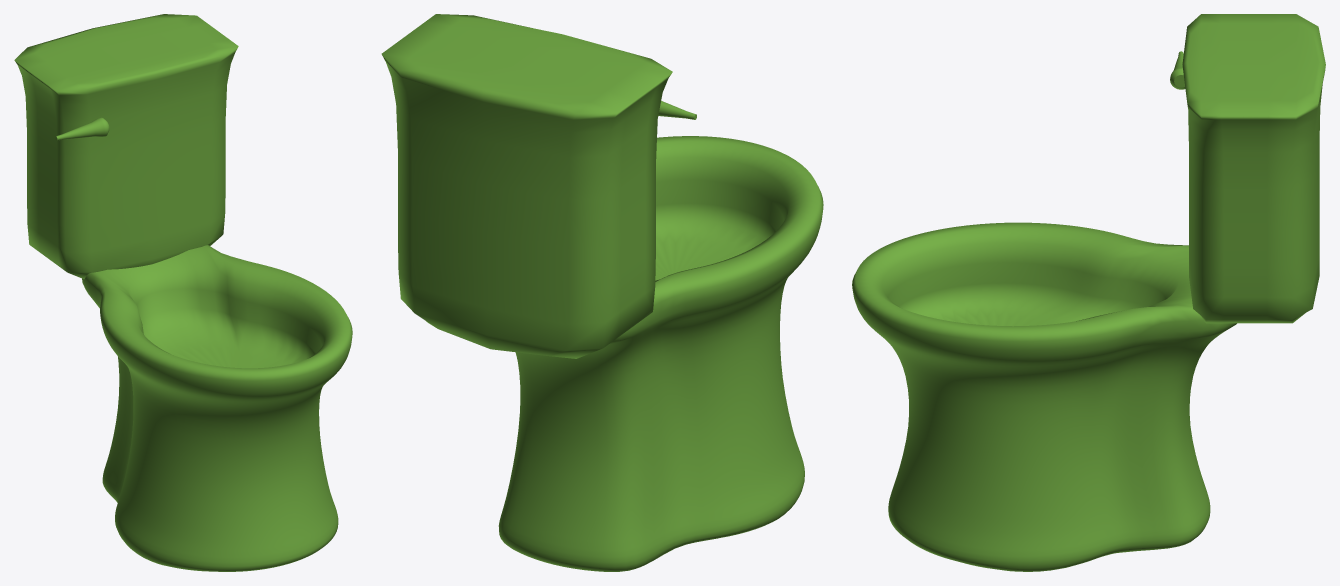
The model's file is SetoToilet.fbx.
The picture shows the model from 3 angles, left to right: view 1: azimuth 30°, elevation 25°; view 2: azimuth 150°, elevation 25°; view 3: azimuth 270°, elevation 25°; orthographic projection. The views are drawn at different scales.
Parts seen in each view (by area): view 1: Toilet; view 2: Toilet; view 3: Toilet.
Boxes of the visible parts, x1,y1,x2,y2 form: Toilet: (14,14,352,571); Toilet: (381,14,823,571); Toilet: (852,14,1325,571).
Size of the model in its own units: 61.9 by 117 by 109.
